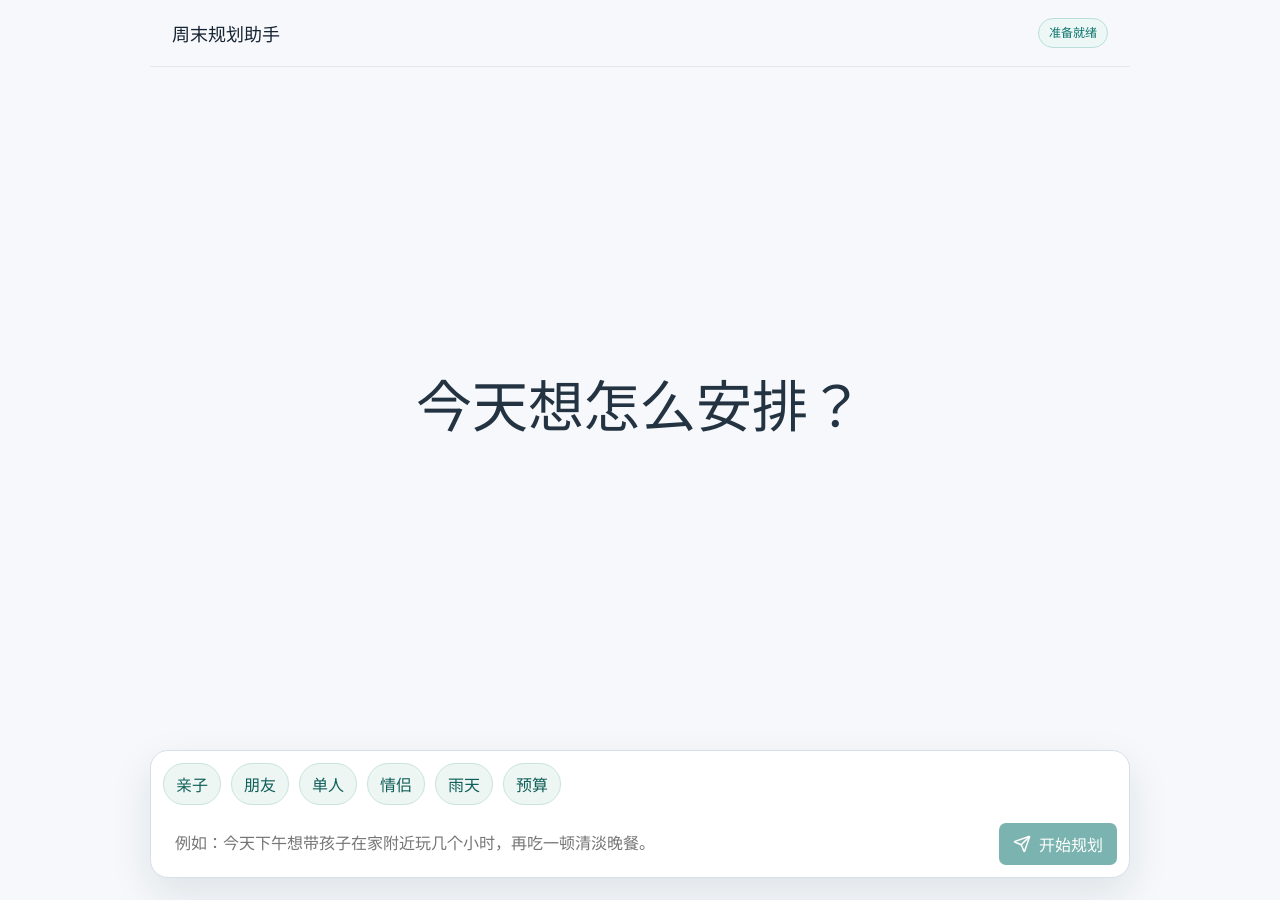
Test: App › hides the scenario selector when the run enters replan mode
Type "Plan a family afternoon" into the text box with test id "main-composer-input". click: (576, 841)
box: [163,817,989,865]
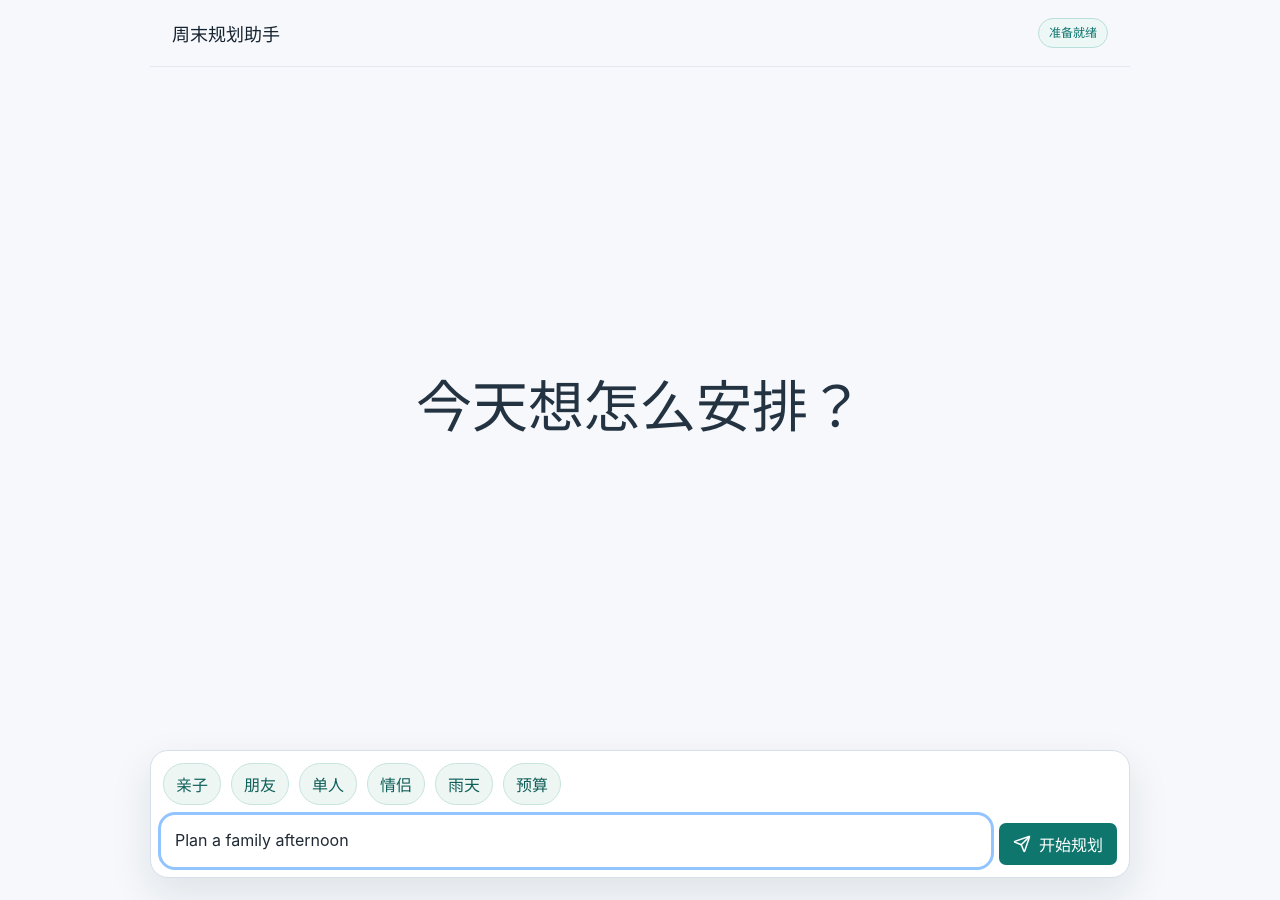
Click the button with test id "start-button". click: (1058, 844)
box: [999,823,1117,865]
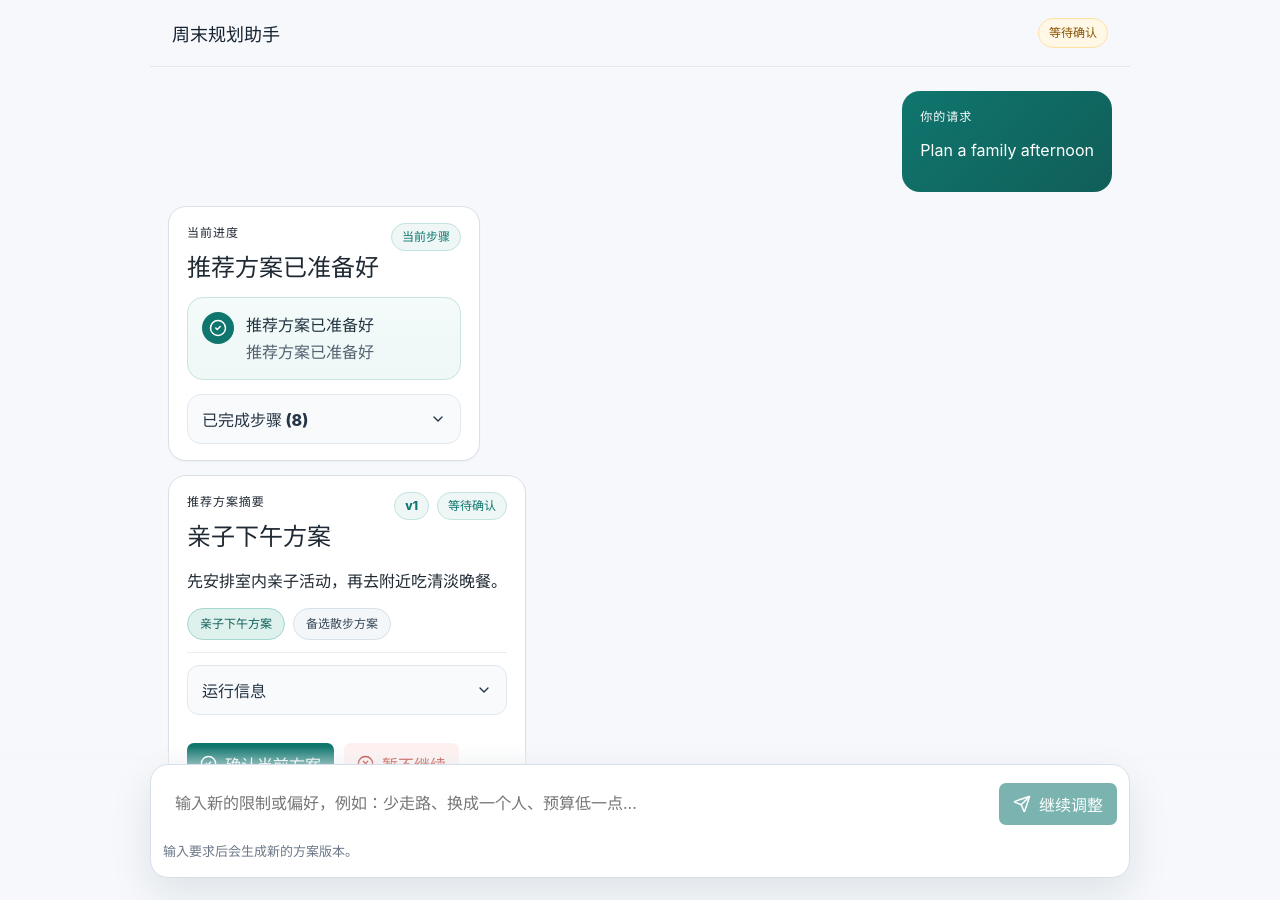
Check: the element with test id "replan-panel" is shown, box [187,809,507,850]
Check: the element with test id "scenario-selector" is gone
